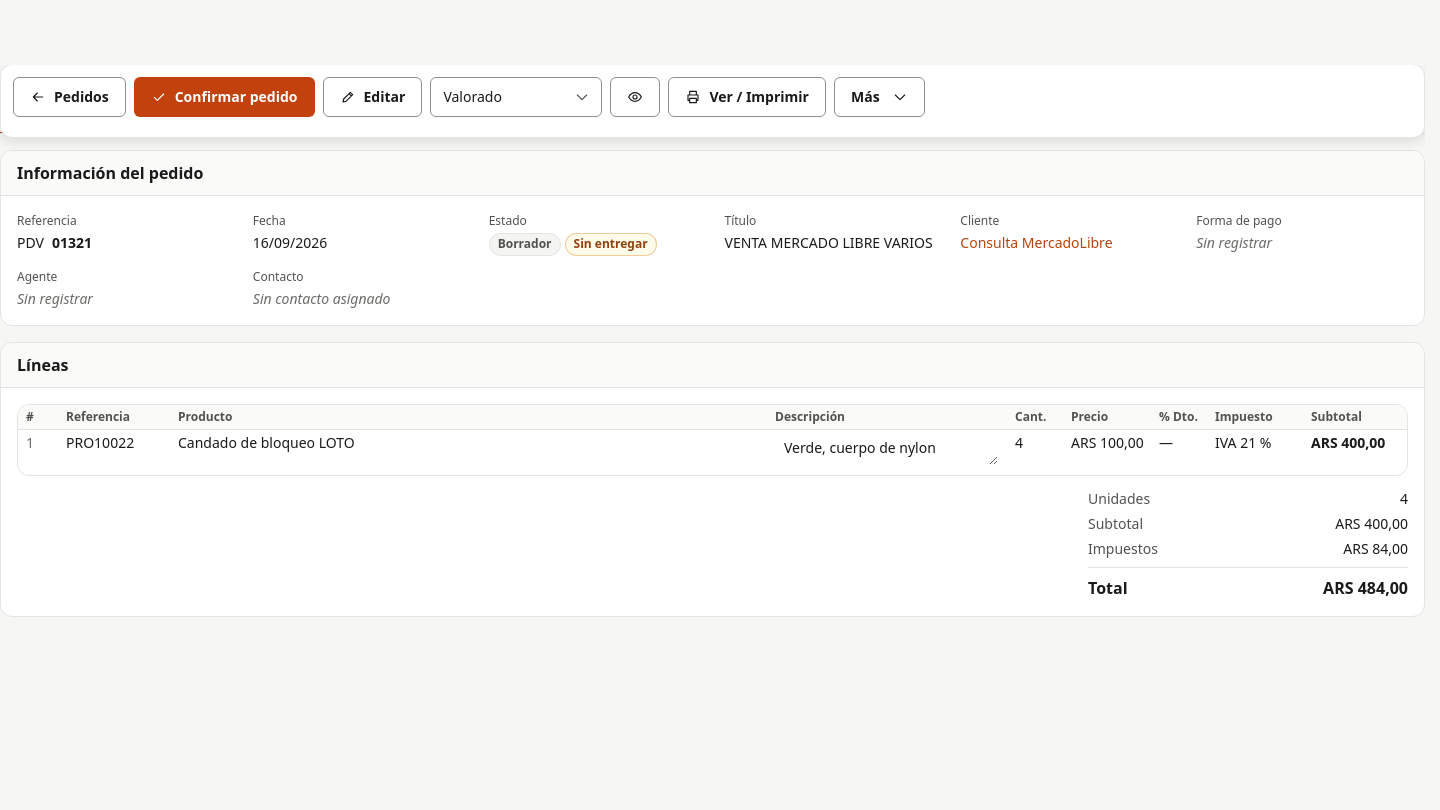
Pedido · edición por borrador › Editar abre el modo edición con Guardar, Guardar y editar y Descartar, y nada más
Click the button "Editar".
click(372, 97)  # box 322,77 -> 422,117
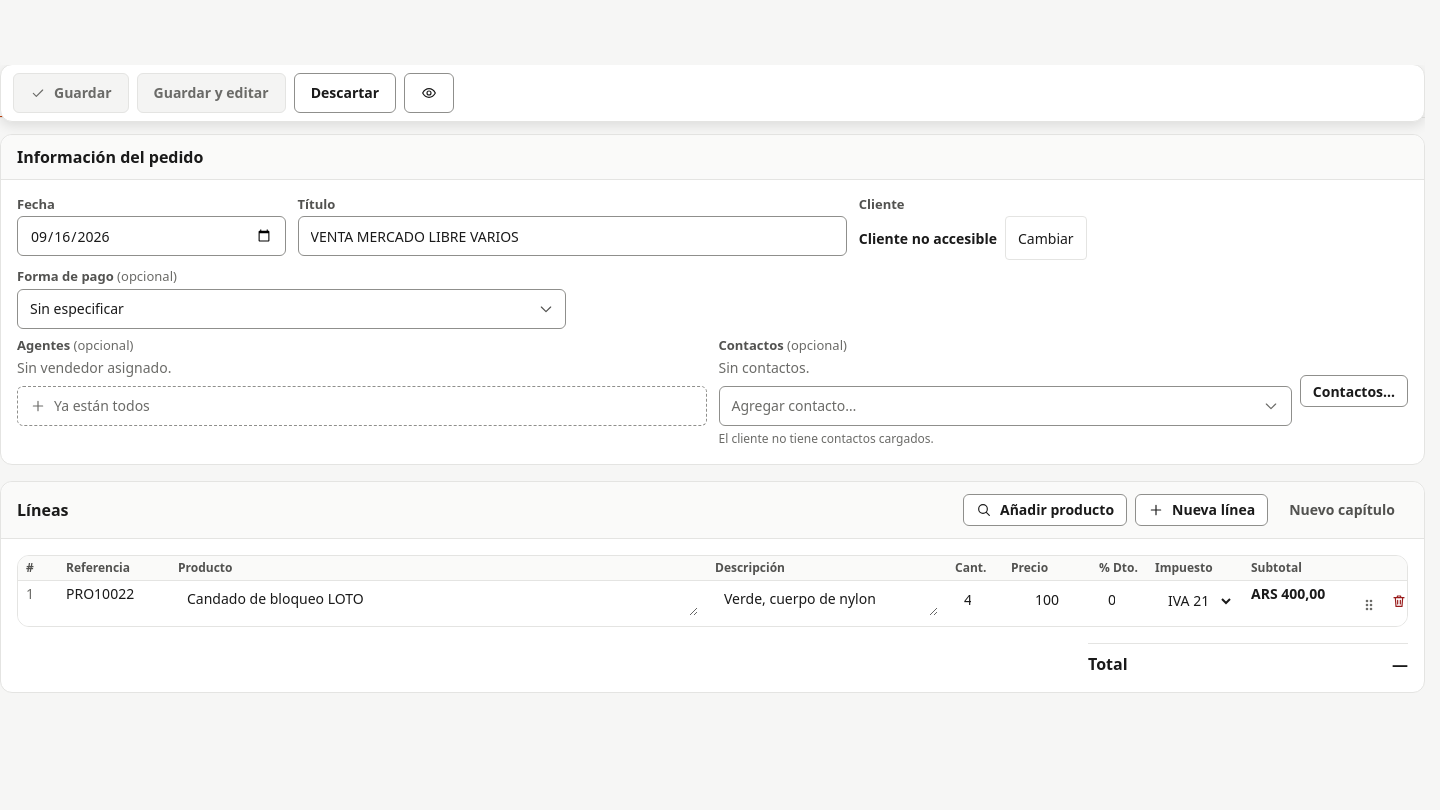
Check: the button "Guardar" is shown, box 13,73 -> 128,113
Check: the button "Guardar y editar" is shown, box 136,73 -> 286,113
Check: the button "Descartar" is shown, box 294,73 -> 396,113
